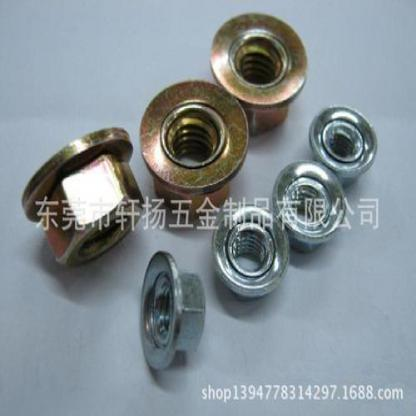FOD: (23, 124, 144, 271), (139, 83, 250, 211), (207, 11, 310, 131), (138, 246, 208, 378), (212, 205, 291, 305), (272, 158, 348, 252), (309, 103, 378, 188)
